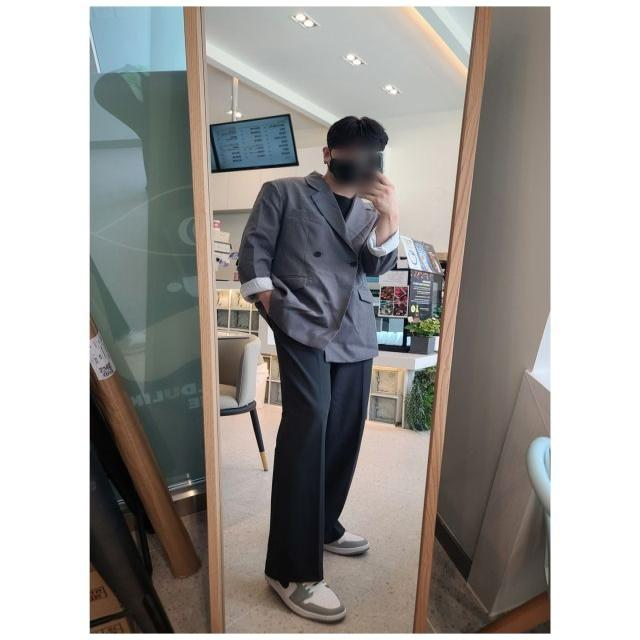blazer: (237, 167, 401, 365)
slacks: (262, 306, 376, 584)
